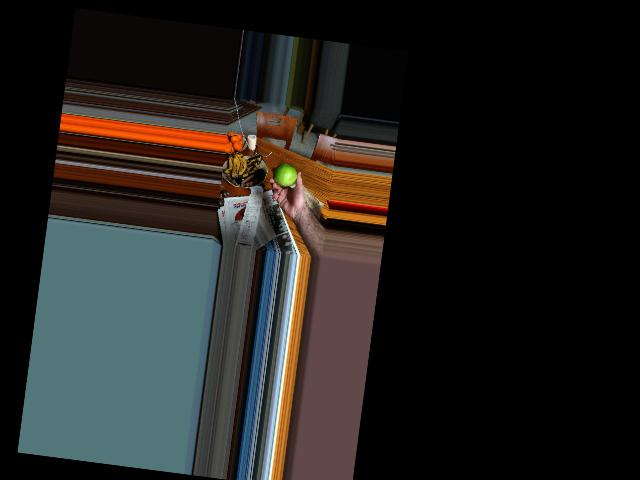apple: (270, 160, 298, 190)
